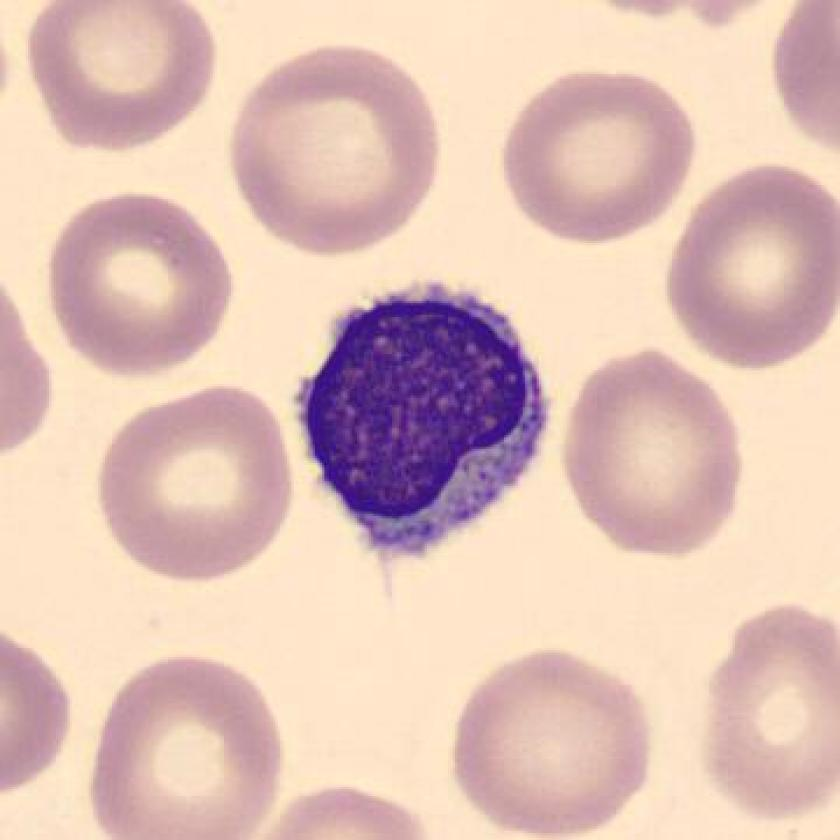lymphocyte: (286, 263, 570, 584)
